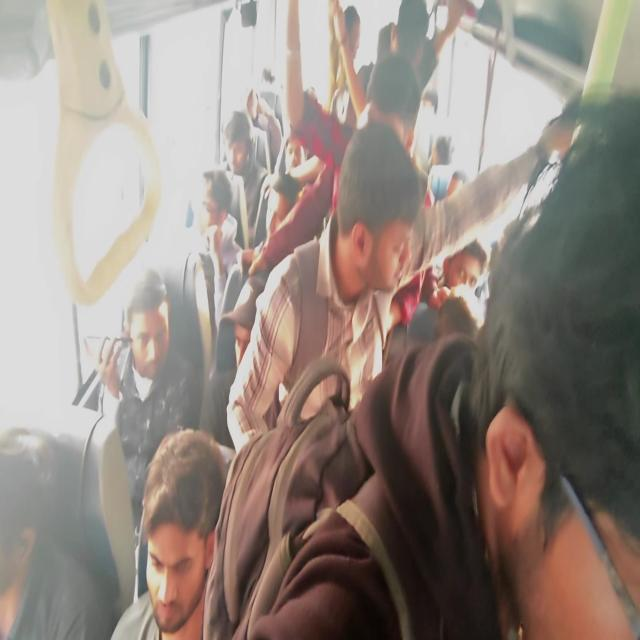person: (225, 96, 576, 453), (460, 88, 639, 638), (203, 329, 502, 638), (95, 269, 203, 602), (110, 426, 227, 638), (0, 426, 112, 639), (200, 168, 244, 330), (222, 109, 269, 247), (441, 238, 487, 290)
